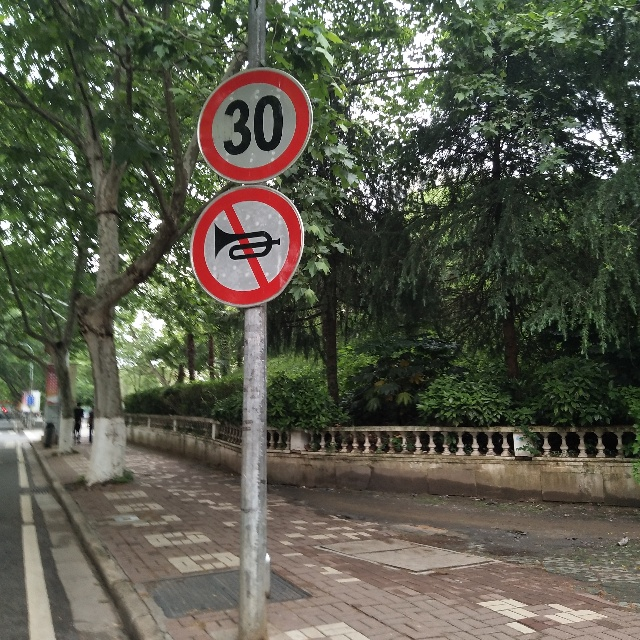nohonk: (192, 191, 295, 292)
